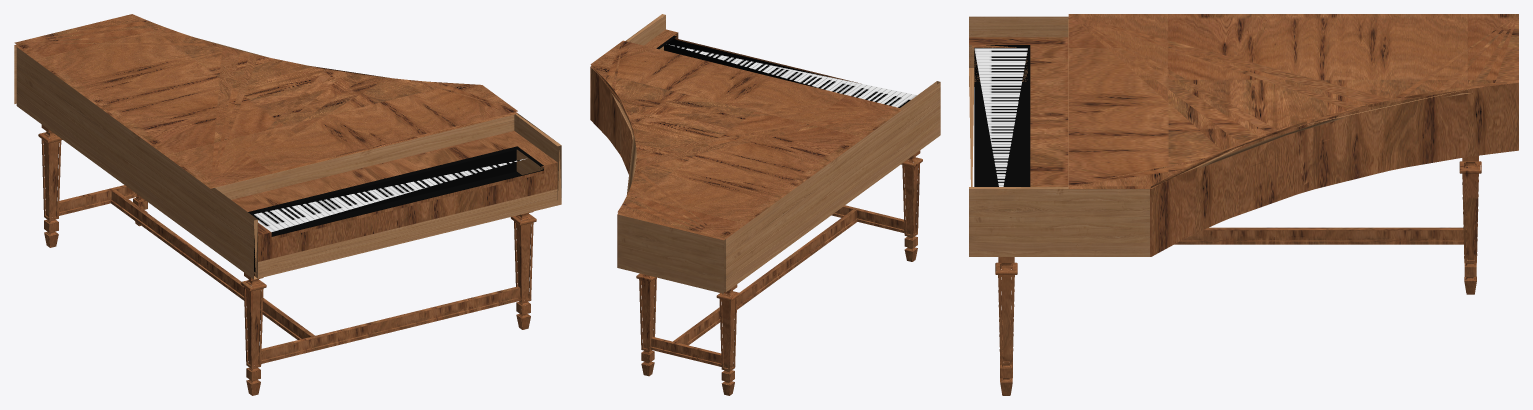
The model's file is harpsichord.glb.
3 views of the same model, side by side, from view 1: azimuth 30°, elevation 25°; view 2: azimuth 150°, elevation 25°; view 3: azimuth 270°, elevation 25° (orthographic). The views are drawn at different scales.
Parts seen in each view (by area): view 1: Object006_Holz02_0, Layer:2D_MOBILIAR_Holz01_0, TABLE_Holz02_0, Object005_Holz02_0, Layer:0_3D_Black_0, Object004_Tasten_0; view 2: Object006_Holz02_0, Layer:2D_MOBILIAR_Holz01_0, TABLE_Holz02_0, Object004_Tasten_0, object 2, Layer:0_3D_Black_0, Object005_Holz02_0; view 3: Object006_Holz02_0, object 2, Layer:2D_MOBILIAR_Holz01_0, TABLE_Holz02_0, Object005_Holz02_0, Object004_Tasten_0, Layer:0_3D_Black_0.
Boxes of the visible parts, x1,y1,x2,y2 form: Object006_Holz02_0: (14, 14, 517, 188); Layer:2D_MOBILIAR_Holz01_0: (14, 38, 561, 279); TABLE_Holz02_0: (38, 124, 536, 395); Object005_Holz02_0: (231, 131, 557, 261); Layer:0_3D_Black_0: (248, 146, 543, 272); Object004_Tasten_0: (251, 158, 526, 232); Object006_Holz02_0: (590, 40, 900, 240); Layer:2D_MOBILIAR_Holz01_0: (591, 14, 940, 293); TABLE_Holz02_0: (636, 150, 922, 395); Object004_Tasten_0: (669, 44, 917, 107); object 2: (590, 67, 636, 267); Layer:0_3D_Black_0: (656, 35, 827, 89); Object005_Holz02_0: (644, 29, 860, 83); Object006_Holz02_0: (1068, 14, 1518, 188); object 2: (1150, 83, 1518, 256); Layer:2D_MOBILIAR_Holz01_0: (969, 16, 1470, 256); TABLE_Holz02_0: (995, 155, 1481, 395); Object005_Holz02_0: (969, 37, 1068, 186); Object004_Tasten_0: (974, 48, 1027, 186); Layer:0_3D_Black_0: (974, 45, 1030, 186).
Size of the model in its own units: 1362 by 811 by 1836.
Materials: 4 (3 with a texture image).
